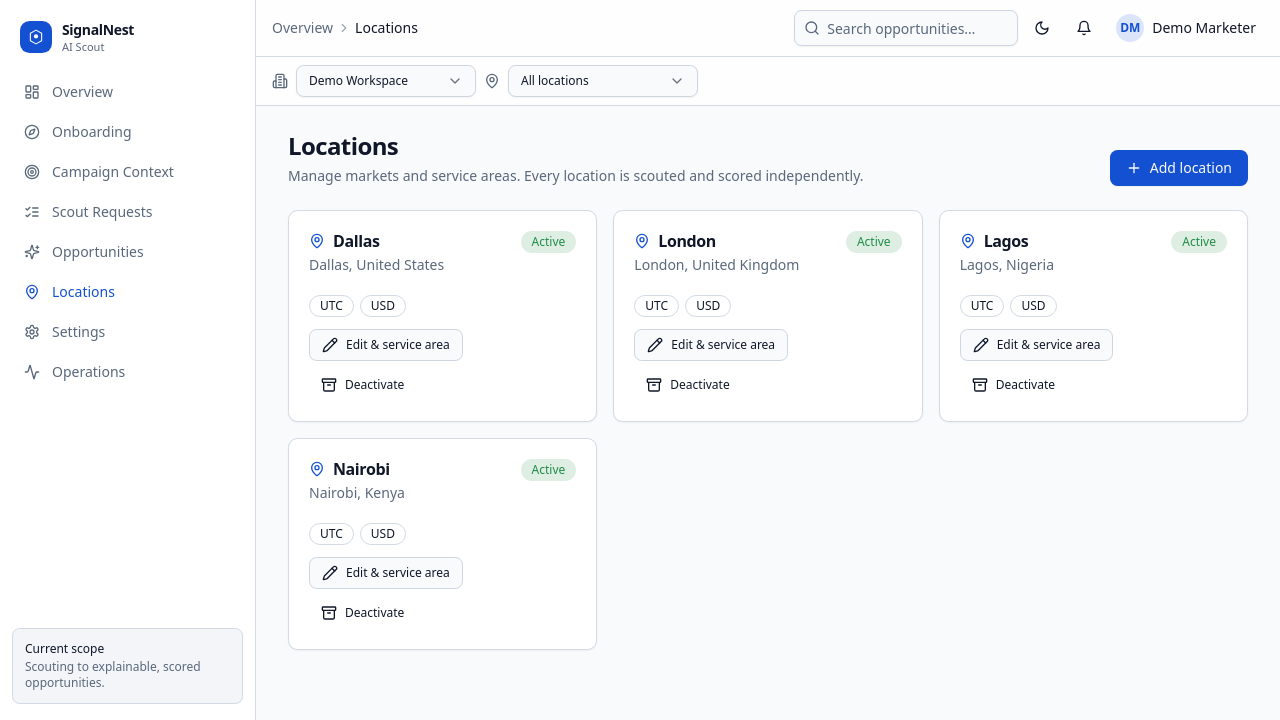
Test: location dialog — an unresolvable address is not a dead end › says so when address lookup is not configured
The image size is (1280, 720).
Click the button "Add location".
click(1179, 168)  # box [1110, 150, 1248, 186]
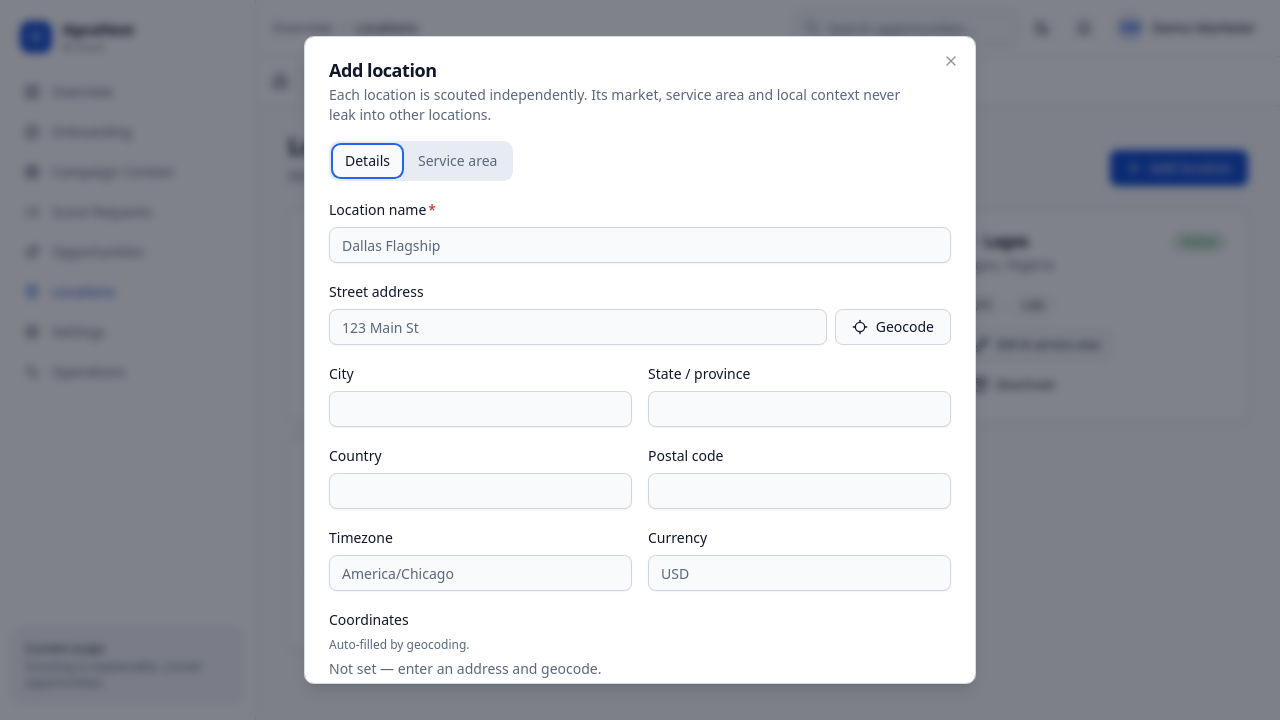
Type "Dallas" into the field labelled "Street address".
click(578, 327); type("Dallas")  # box [329, 309, 827, 345]
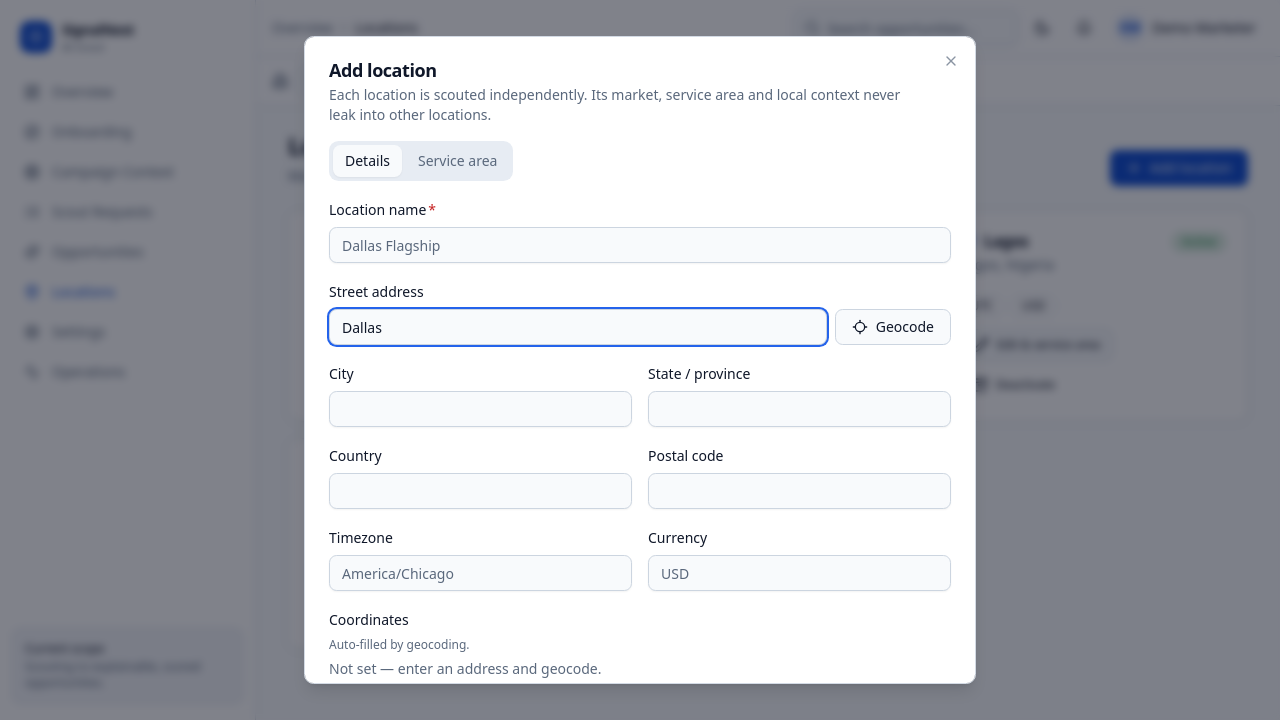
Click the button "Geocode".
click(893, 327)  # box [835, 309, 951, 345]
(page scrolled)
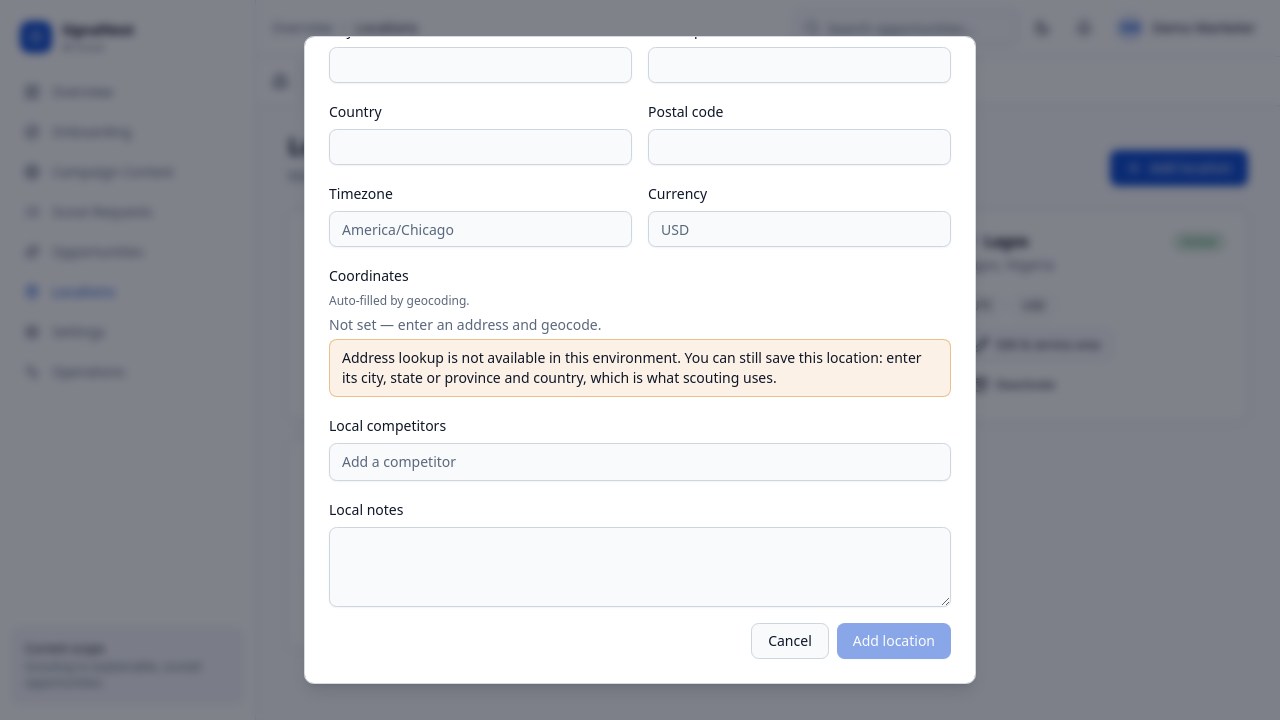
Expected: the message shows "Address lookup is not available in this environment. You can still save this location: enter its city, state or province and country, which is what scouting use", [342, 348, 922, 387]
